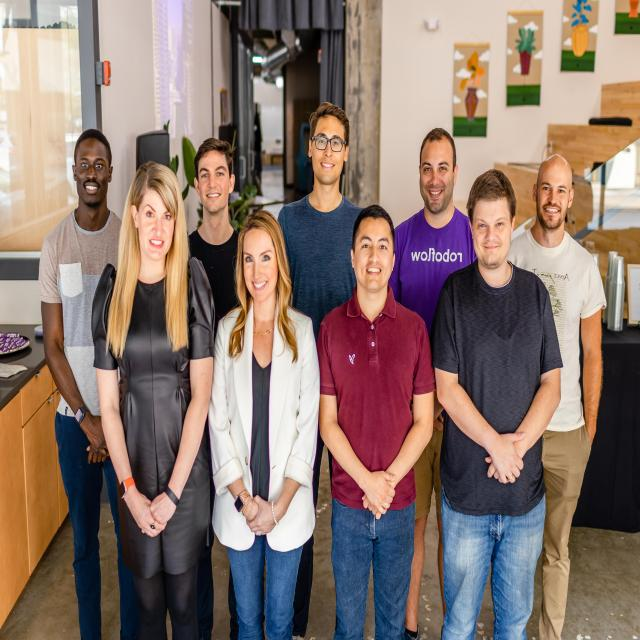face: (353, 222, 393, 294), (472, 200, 512, 269), (136, 195, 175, 262), (242, 232, 276, 303), (420, 144, 454, 214), (310, 122, 347, 186), (535, 168, 571, 230), (75, 145, 109, 207), (197, 155, 230, 215)
